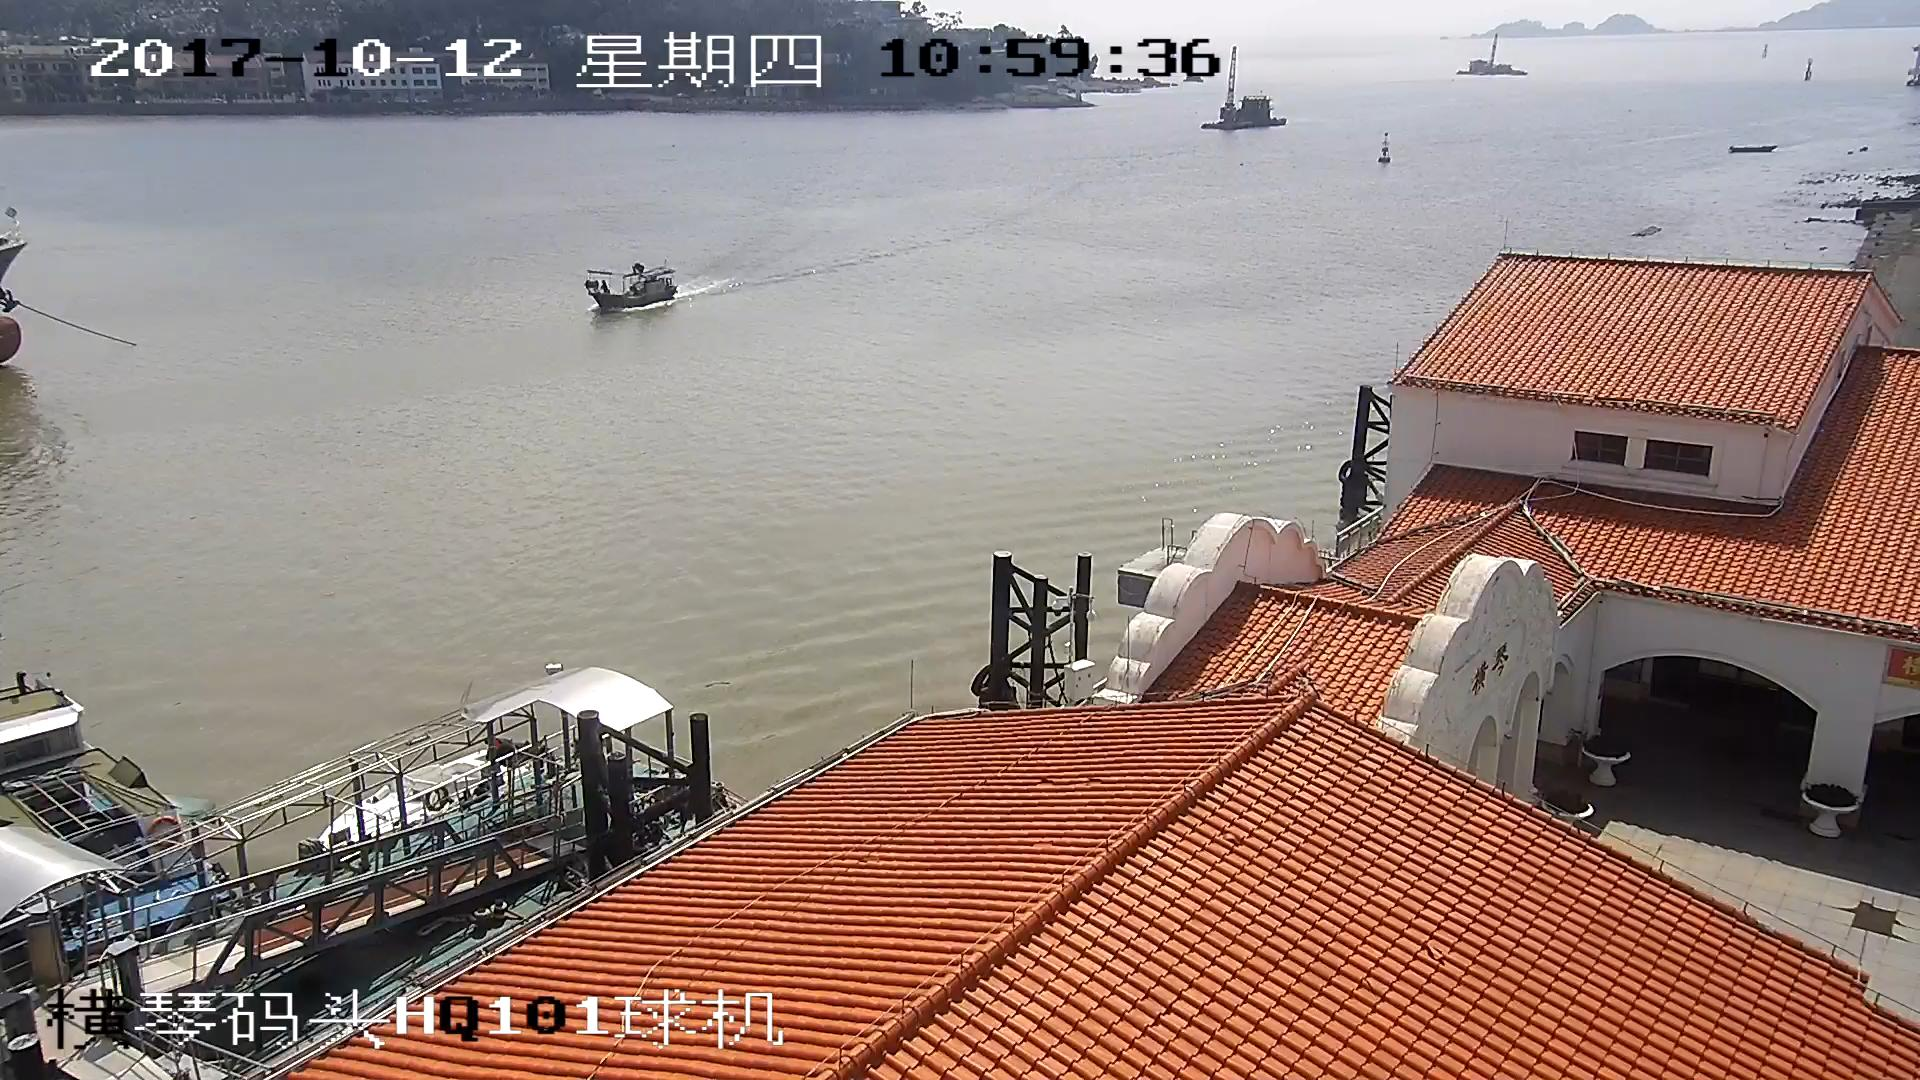fishing boat: (582, 261, 675, 310)
